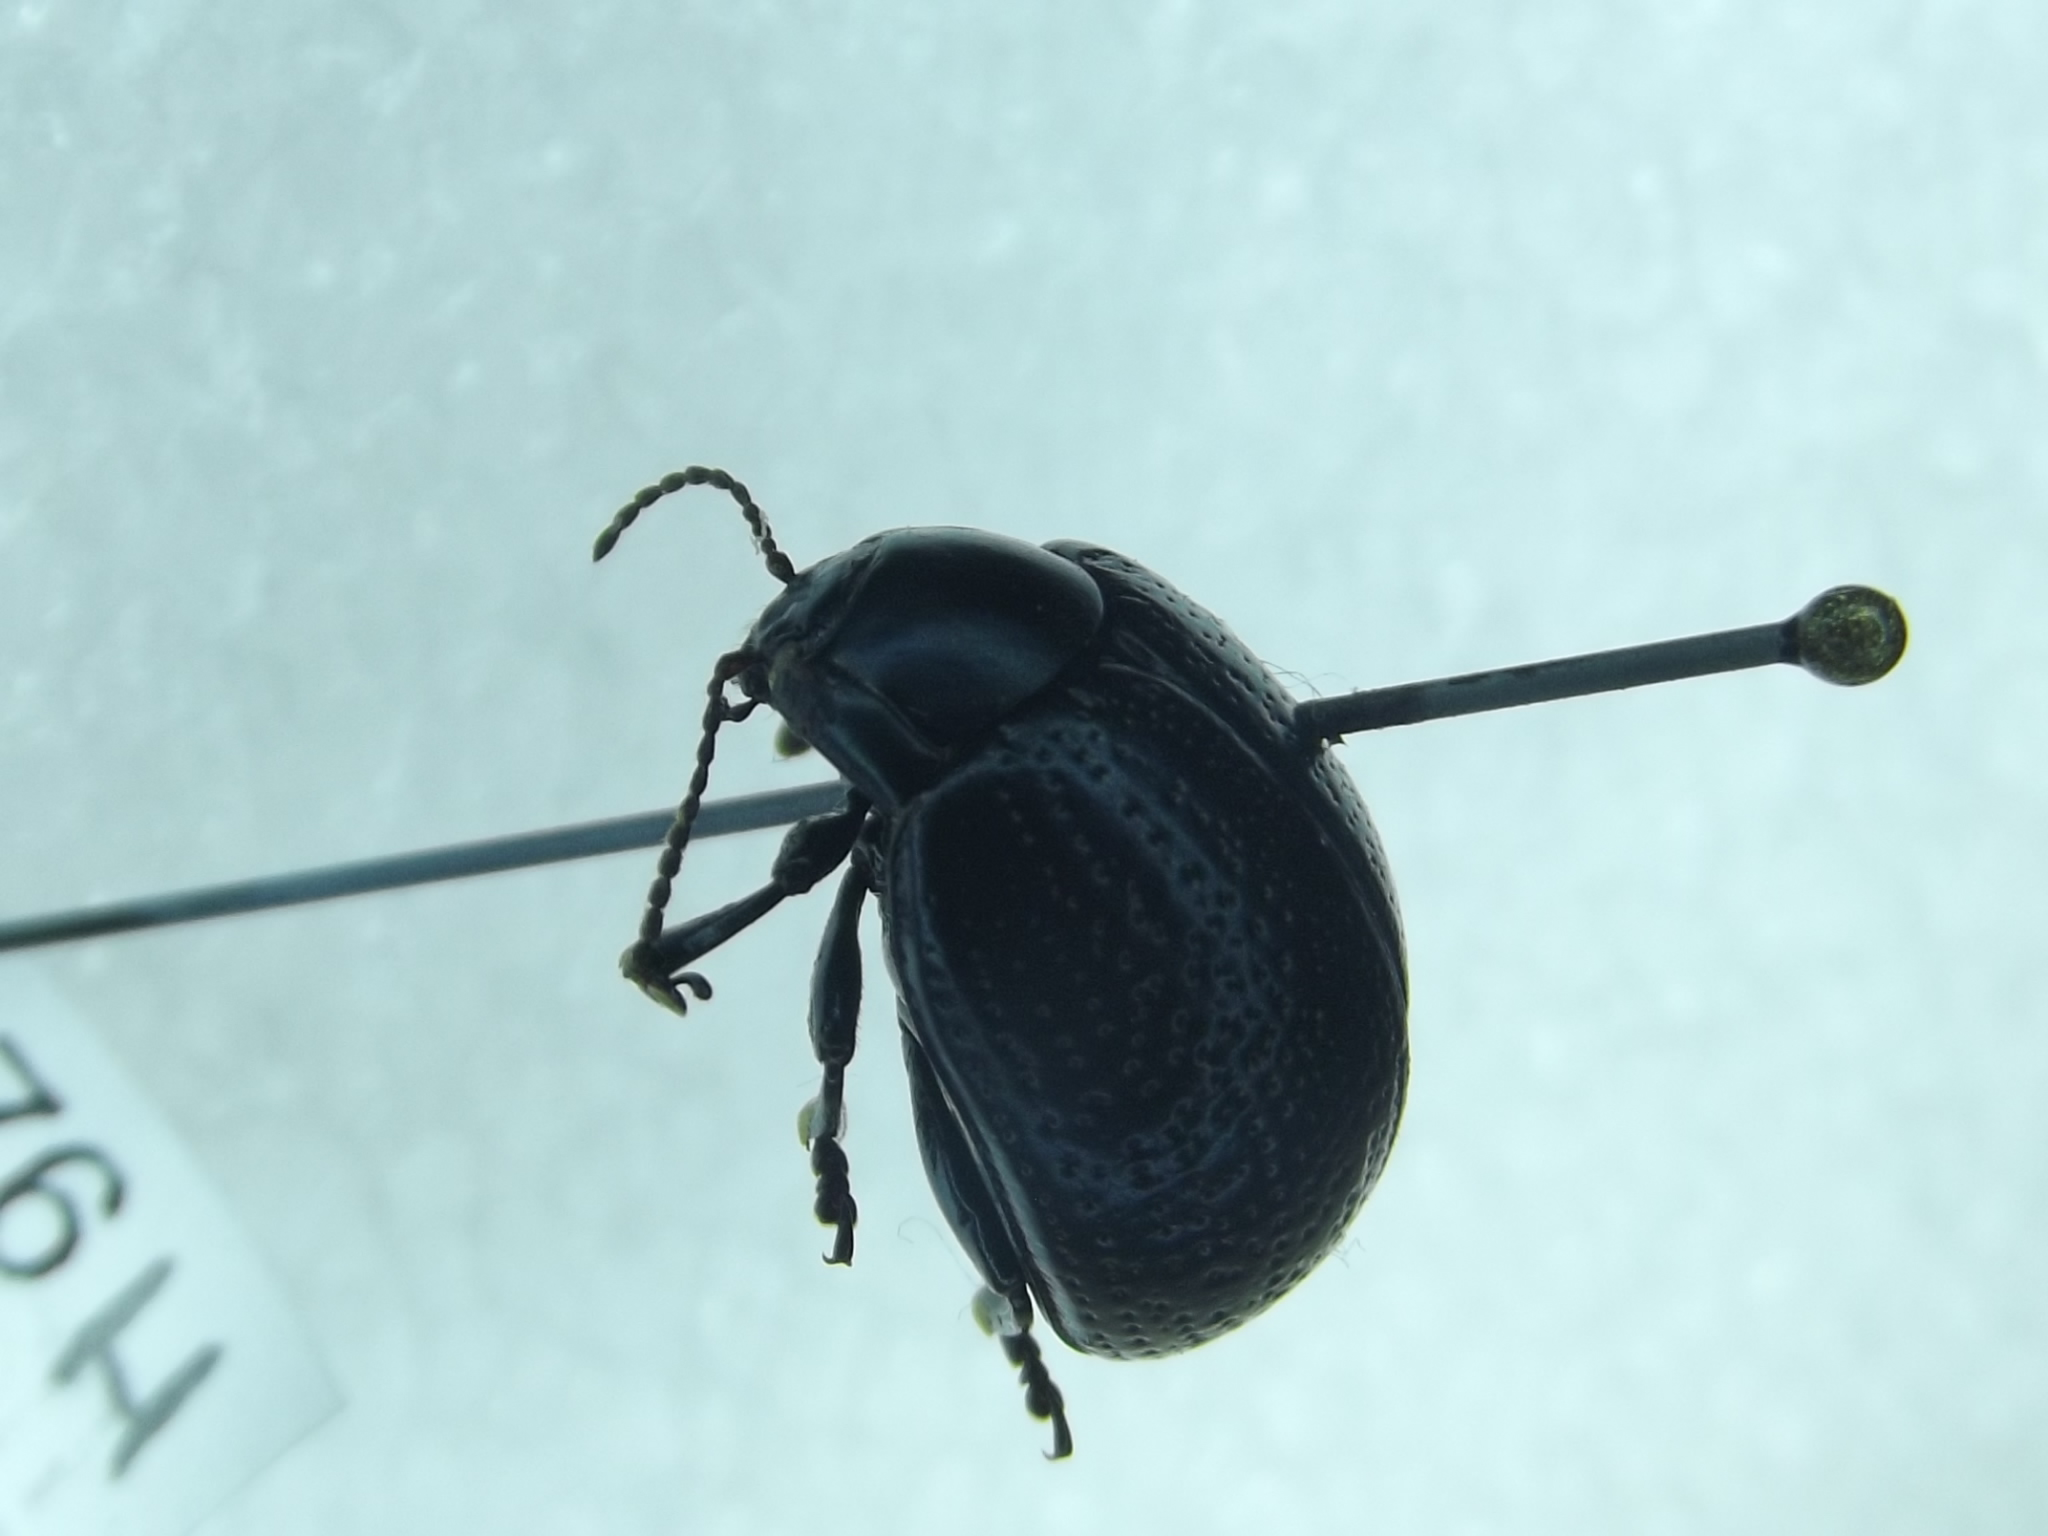Chrysolina_oricalcia: (576, 450, 1430, 1483)
